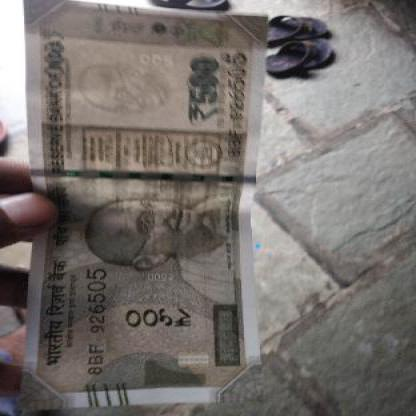New500Front: (28, 2, 251, 389)
